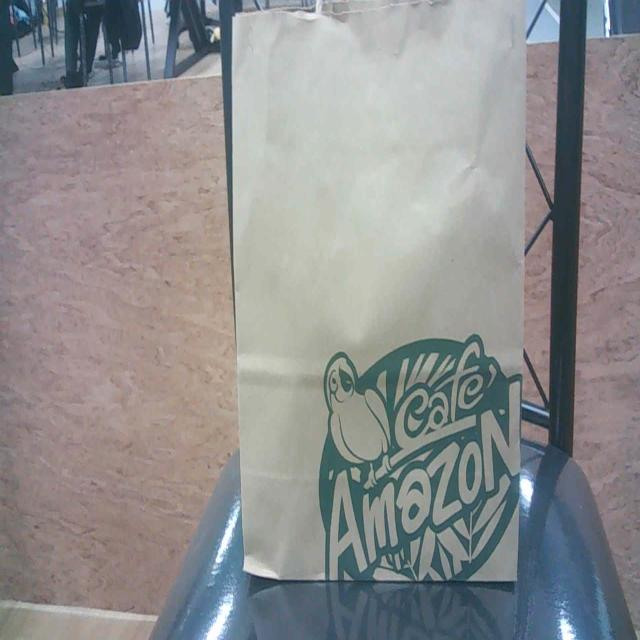bag: (224, 13, 522, 582)
